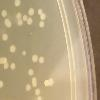white: (0, 7, 9, 19), (9, 60, 17, 73), (30, 54, 39, 65), (9, 43, 17, 55), (14, 10, 23, 20), (39, 11, 48, 21), (37, 20, 47, 29), (1, 31, 9, 42), (26, 16, 34, 27), (27, 6, 35, 17), (12, 0, 23, 8), (37, 55, 45, 65), (47, 77, 55, 87), (5, 20, 13, 30), (16, 17, 24, 27), (3, 61, 10, 72), (27, 67, 34, 77), (25, 83, 32, 92), (3, 17, 10, 26), (21, 13, 28, 22), (36, 7, 43, 16), (30, 81, 38, 88), (31, 76, 38, 84), (21, 49, 28, 57), (0, 55, 4, 67), (27, 30, 33, 38), (44, 79, 49, 88), (3, 56, 8, 65), (0, 79, 4, 90), (34, 90, 40, 97), (35, 88, 41, 95), (36, 94, 43, 100)
